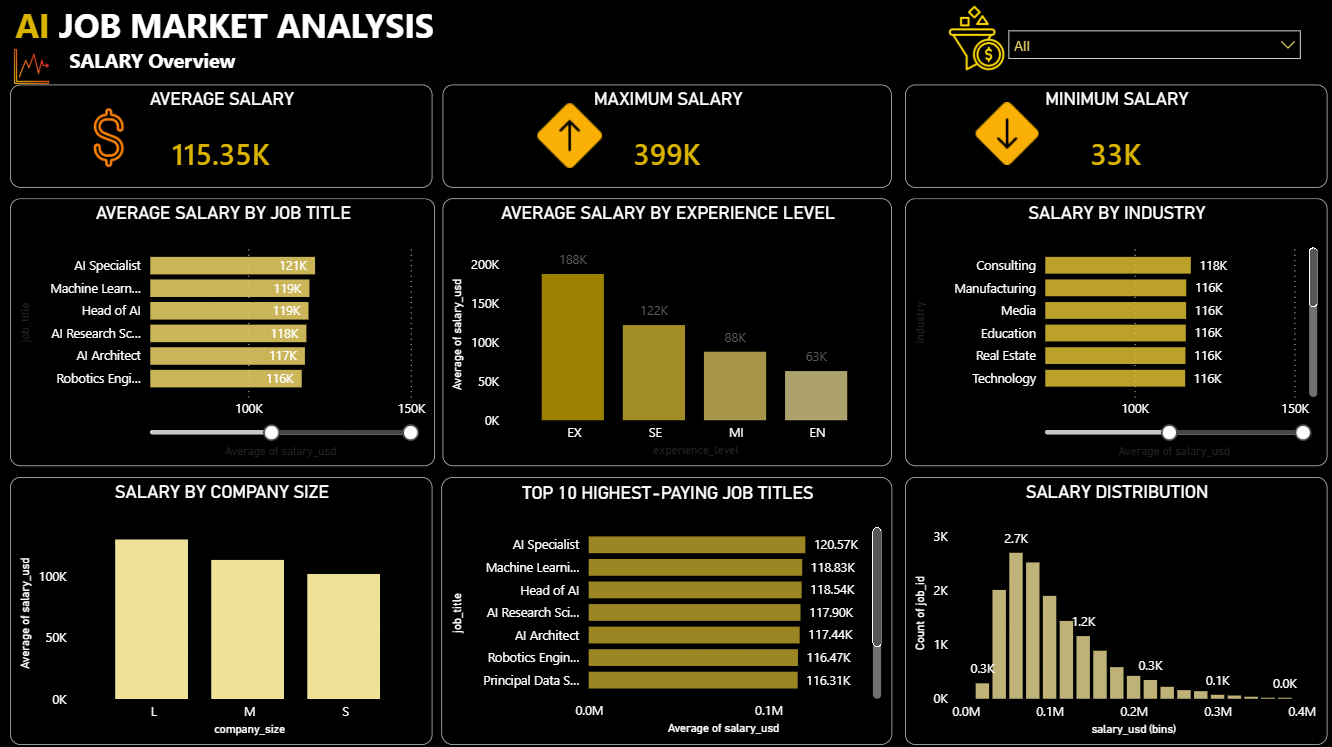

Layout of this report page (visuals, bound fields, positions):
{"tool":"powerbi","page":{"name":"salary analysis","canvas":[1280,720],"ordinal":1},"visuals":[{"type":"textbox","box":[13.7,0,533.8,97.4],"z":0},{"type":"image","box":[0,49.4,70,34.3],"z":1000},{"type":"cardVisual","title":"AVERAGE SALARY","fields":{"Data":["Avg(ai_job_dataset.salary_usd)"]},"box":[13.7,83.7,402.1,98.8],"z":2000},{"type":"cardVisual","title":"MAXIMUM SALARY","fields":{"Data":["Max(ai_job_dataset.salary_usd)"]},"box":[426.8,83.7,428.1,98.8],"z":3000},{"type":"cardVisual","title":"MINIMUM SALARY","fields":{"Data":["Min(ai_job_dataset.salary_usd)"]},"box":[867.2,83.7,402.1,98.8],"z":4000},{"type":"clusteredBarChart","title":"AVERAGE SALARY BY JOB TITLE","fields":{"Category":["ai_job_dataset.job_title"],"Y":["Avg(ai_job_dataset.salary_usd)"]},"box":[13.7,192.1,404.8,255.2],"z":5000},{"type":"clusteredColumnChart","title":"AVERAGE SALARY BY EXPERIENCE LEVEL","fields":{"Category":["ai_job_dataset.experience_level"],"Y":["Avg(ai_job_dataset.salary_usd)"]},"box":[426.8,192.1,428.1,255.2],"z":6000},{"type":"clusteredBarChart","title":"SALARY BY INDUSTRY","fields":{"Y":["Avg(ai_job_dataset.salary_usd)"],"Category":["ai_job_dataset.industry"]},"box":[867.2,192.1,402.1,255.2],"z":7000},{"type":"clusteredColumnChart","title":"SALARY BY COMPANY SIZE","fields":{"Y":["Avg(ai_job_dataset.salary_usd)"],"Category":["ai_job_dataset.company_size"]},"box":[13.7,456.9,402.1,255.2],"z":8000},{"type":"clusteredBarChart","title":"TOP 10 HIGHEST-PAYING JOB TITLES","fields":{"Category":["ai_job_dataset.job_title"],"Y":["Avg(ai_job_dataset.salary_usd)"]},"box":[425.4,456.9,429.5,255.2],"z":9000},{"type":"clusteredColumnChart","title":"SALARY DISTRIBUTION","fields":{"Y":["CountNonNull(ai_job_dataset.job_id)"],"Category":["ai_job_dataset.salary_usd (bins)"]},"box":[867,457,402,255],"z":10000},{"type":"slicer","fields":{"Values":["ai_job_dataset.job_title"]},"box":[955.1,22,299.1,53.5],"z":11000},{"type":"image","box":[843.9,8.2,181.1,61.7],"z":12000},{"type":"image","box":[59,105.7,97.4,56.3],"z":13000},{"type":"image","box":[908.4,100.2,111.1,60.4],"z":14000},{"type":"image","box":[484.4,101.5,126.2,61.7],"z":15000}]}

Visuals, with their boxes in screenshot pixels (x1, y1, x2, y2), scaled from the page's 1280x720 canvas onto the 1332x747 screenshot:
textbox: {"left": 14, "top": 0, "right": 570, "bottom": 101}
image: {"left": 0, "top": 51, "right": 73, "bottom": 87}
"AVERAGE SALARY" cardVisual: {"left": 14, "top": 87, "right": 433, "bottom": 189}
"MAXIMUM SALARY" cardVisual: {"left": 444, "top": 87, "right": 890, "bottom": 189}
"MINIMUM SALARY" cardVisual: {"left": 902, "top": 87, "right": 1321, "bottom": 189}
"AVERAGE SALARY BY JOB TITLE" clusteredBarChart: {"left": 14, "top": 199, "right": 436, "bottom": 464}
"AVERAGE SALARY BY EXPERIENCE LEVEL" clusteredColumnChart: {"left": 444, "top": 199, "right": 890, "bottom": 464}
"SALARY BY INDUSTRY" clusteredBarChart: {"left": 902, "top": 199, "right": 1321, "bottom": 464}
"SALARY BY COMPANY SIZE" clusteredColumnChart: {"left": 14, "top": 474, "right": 433, "bottom": 739}
"TOP 10 HIGHEST-PAYING JOB TITLES" clusteredBarChart: {"left": 443, "top": 474, "right": 890, "bottom": 739}
"SALARY DISTRIBUTION" clusteredColumnChart: {"left": 902, "top": 474, "right": 1321, "bottom": 739}
slicer - ai_job_dataset.job_title: {"left": 994, "top": 23, "right": 1305, "bottom": 78}
image: {"left": 878, "top": 9, "right": 1067, "bottom": 73}
image: {"left": 61, "top": 110, "right": 163, "bottom": 168}
image: {"left": 945, "top": 104, "right": 1061, "bottom": 167}
image: {"left": 504, "top": 105, "right": 635, "bottom": 169}
